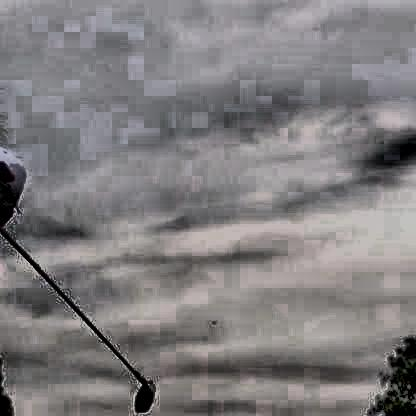golfball: (206, 315, 216, 323)
